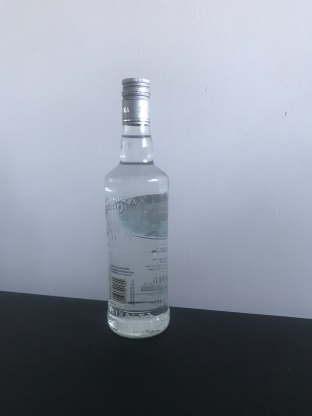nakretka: (120, 76, 151, 127)
